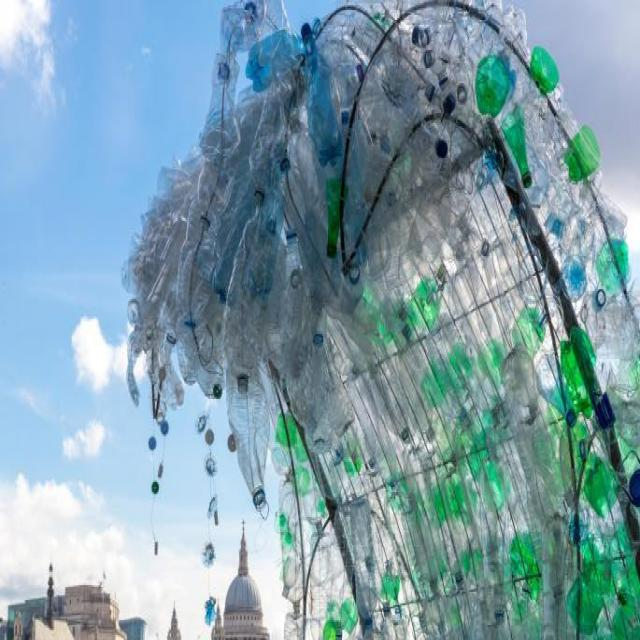plastic_bottle: (209, 356, 290, 537), (213, 200, 294, 381), (294, 326, 352, 502), (411, 173, 499, 288), (297, 18, 352, 196), (492, 84, 557, 207), (415, 342, 489, 448), (235, 19, 330, 97), (345, 499, 390, 633), (534, 343, 592, 445), (334, 269, 398, 360), (401, 492, 446, 610), (564, 116, 617, 208), (203, 58, 246, 167), (501, 340, 551, 433), (480, 495, 513, 613), (591, 227, 633, 310), (560, 332, 599, 417), (518, 40, 570, 102)
